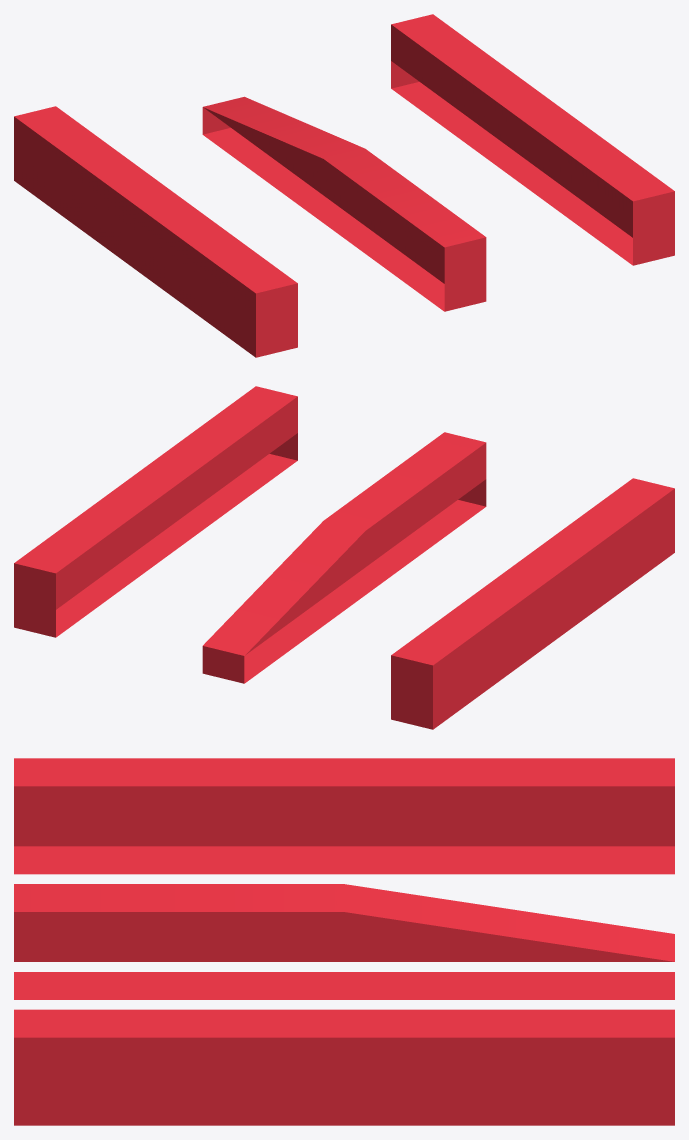
The model's file is split start pared.FBX.
The picture shows the model from 3 angles, top to bottom: view 1: azimuth 30°, elevation 25°; view 2: azimuth 150°, elevation 25°; view 3: azimuth 270°, elevation 25°; orthographic projection. The views are drawn at different scales.
Parts seen in each view (by area): view 1: splitStart; view 2: splitStart; view 3: splitStart.
Part boxes in pixels (x1,y1,x2,y2): splitStart: (14, 14, 674, 357); splitStart: (14, 386, 674, 729); splitStart: (14, 758, 674, 1125).
Size of the model in its own units: 99.99 by 14.67 by 99.99.
